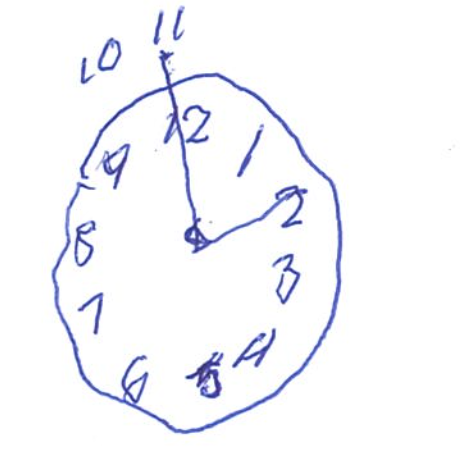1: (235, 119, 266, 180)
10: (77, 36, 124, 85)
11: (152, 4, 187, 45)
12: (163, 104, 211, 146)
2: (274, 184, 305, 230)
3: (273, 254, 302, 306)
4: (232, 326, 277, 374)
5: (193, 358, 226, 402)
6: (119, 352, 148, 404)
7: (77, 293, 105, 335)
8: (74, 220, 99, 268)
9: (101, 144, 133, 191)
hand: (158, 49, 304, 253)
top_left_arrow: (158, 51, 200, 236)
top_right_arrow: (200, 188, 305, 248)
